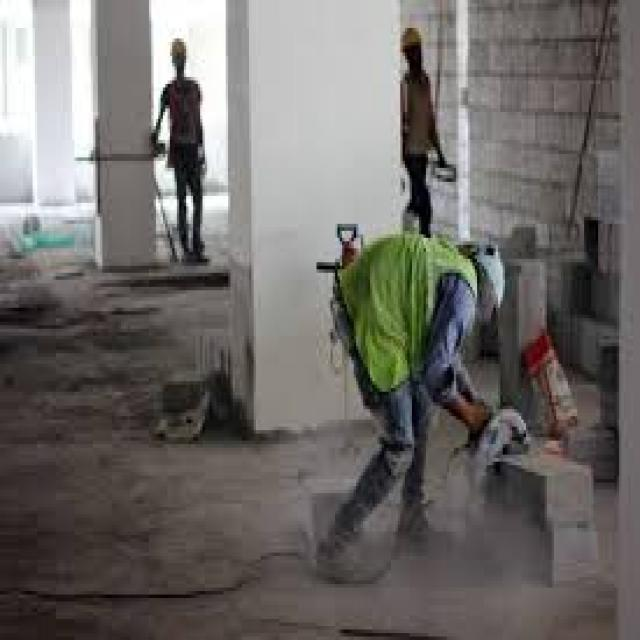Reflective-Jacket: (326, 224, 489, 416), (391, 66, 440, 168), (160, 77, 212, 171)
Safety-Helmet: (463, 228, 514, 326), (396, 21, 428, 59)
